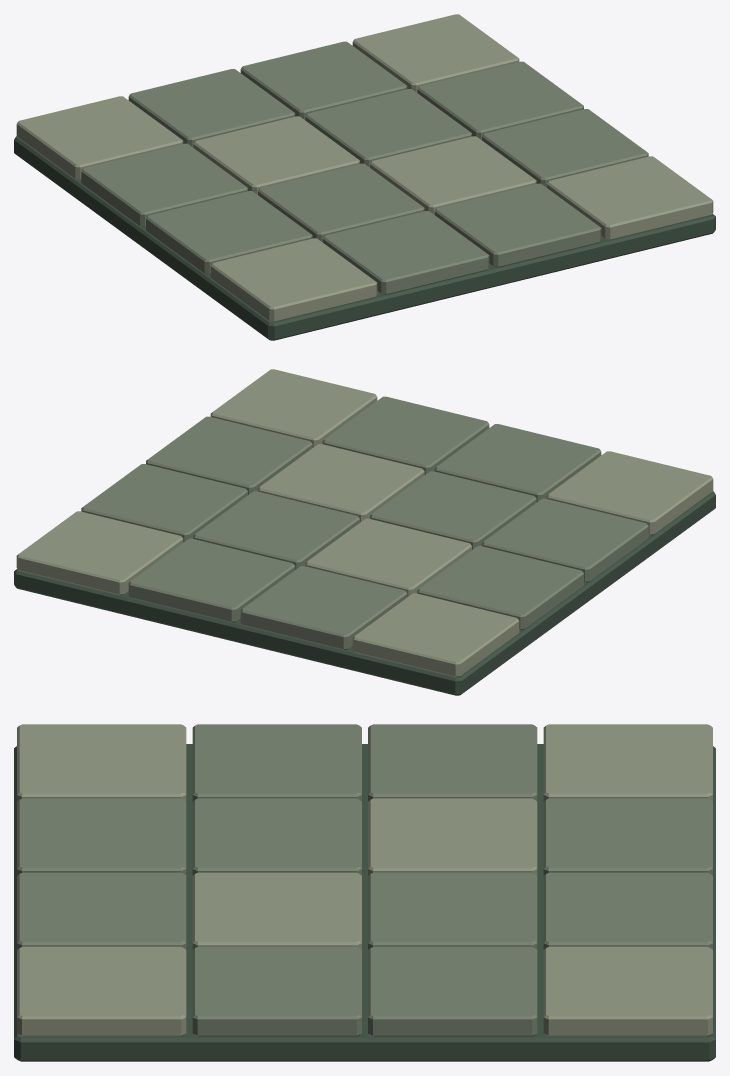
Rendered from floor-worn.glb.
The picture shows the model from 3 angles, top to bottom: view 1: azimuth 30°, elevation 25°; view 2: azimuth 150°, elevation 25°; view 3: azimuth 270°, elevation 25°; orthographic projection. The views are drawn at different scales.
Parts seen in each view (by area): view 1: floor-worn__body; view 2: floor-worn__body; view 3: floor-worn__body.
Part boxes in pixels (<box>): floor-worn__body: <box>14,14,715,340</box>; floor-worn__body: <box>14,369,715,695</box>; floor-worn__body: <box>14,724,715,1061</box>.
Size of the model in its own units: 2 by 0.14 by 2.
